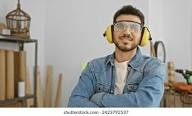safety_goggles: (112, 20, 149, 34)
